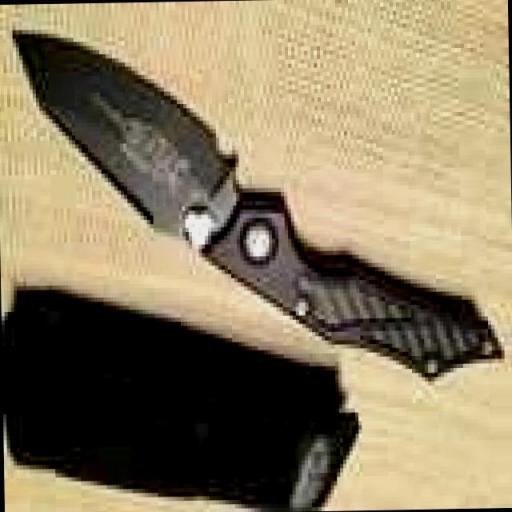knife: (6, 14, 508, 384)
